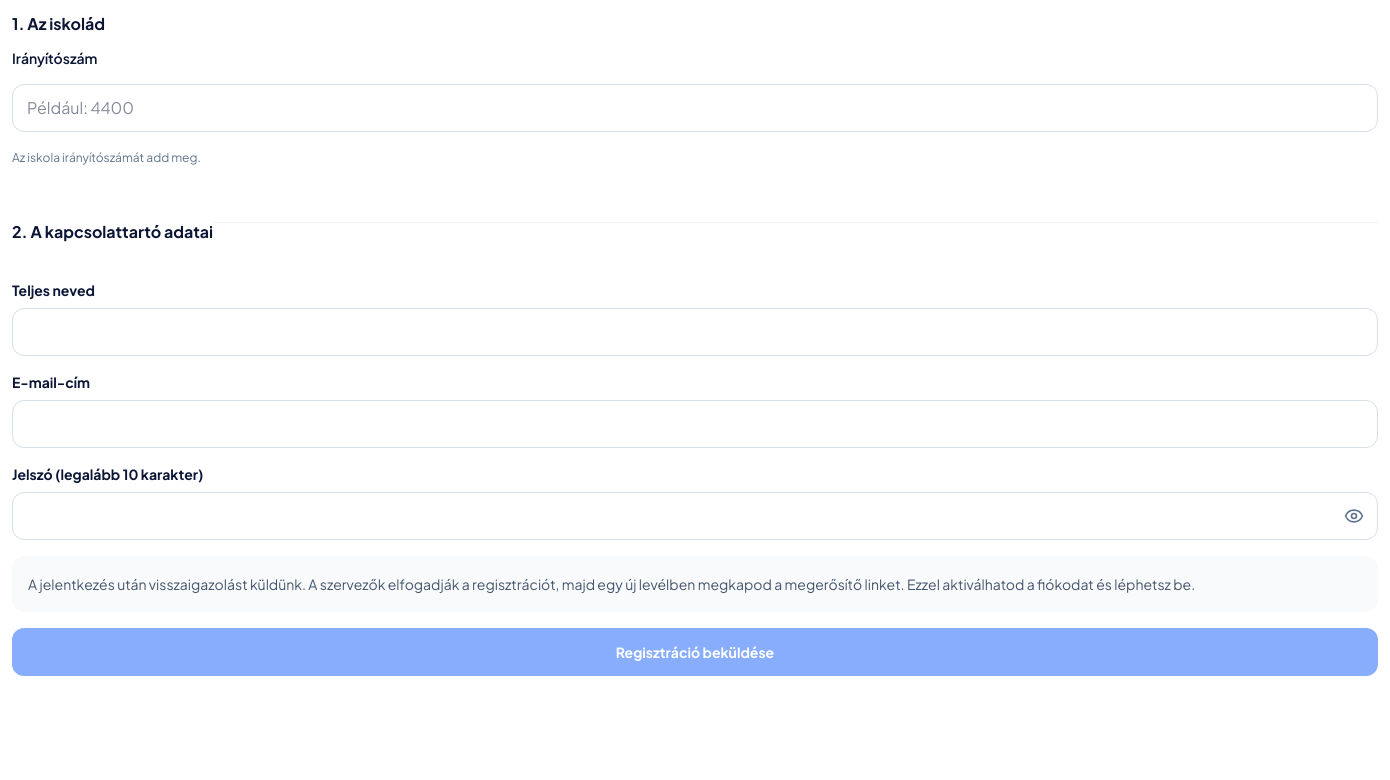
Test: registration school selection › shows a recoverable network error
Step 1. Type "4400" into the field labelled "Irányítószám" → (695, 108), box x1=12 y1=84 x2=1378 y2=132
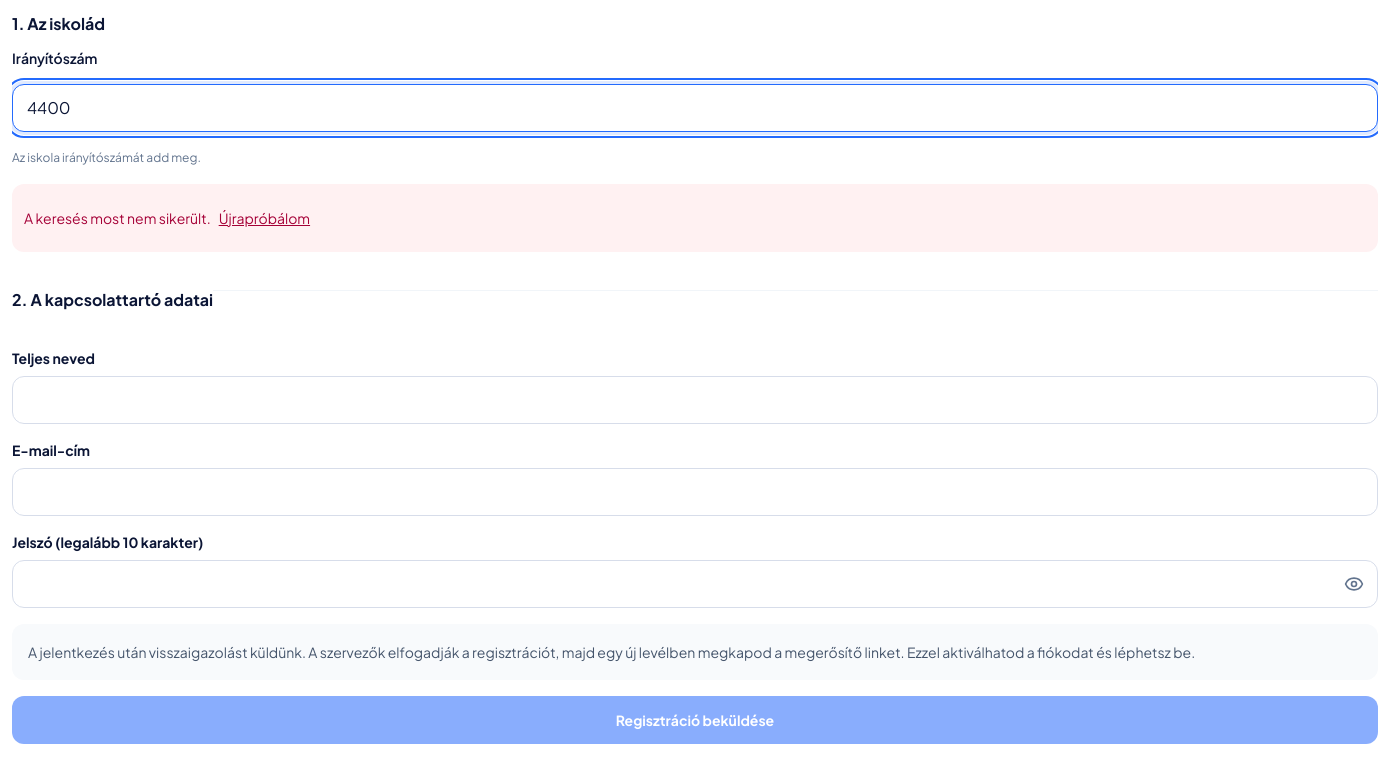
Check: the message shows "A keresés most nem sikerült.", box x1=24 y1=209 x2=211 y2=227
Check: the button "Újrapróbálom" is enabled, box x1=219 y1=196 x2=310 y2=240
